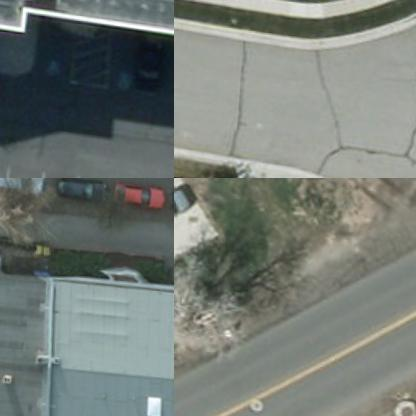car: (133, 9, 166, 93), (113, 178, 169, 205), (174, 178, 198, 233), (54, 178, 106, 199), (0, 178, 44, 195)
